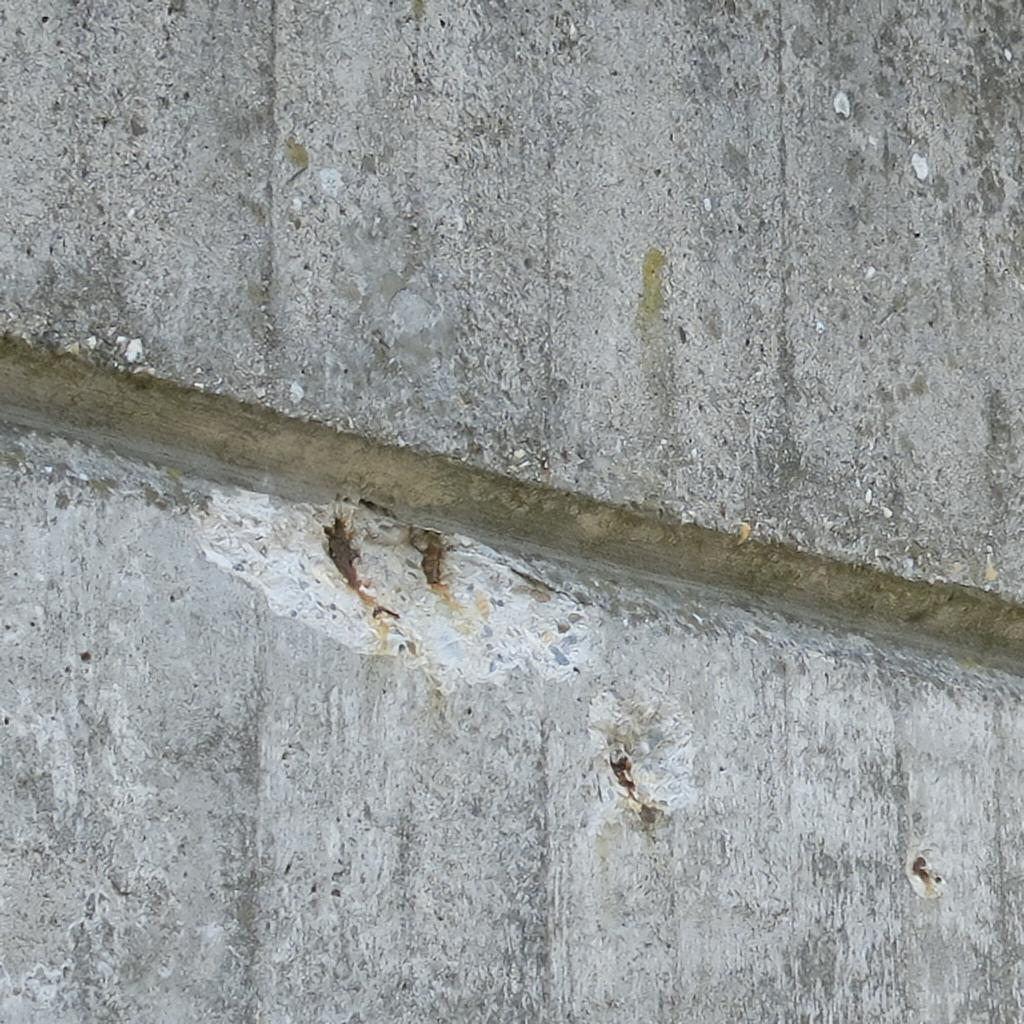exposed_rebar: (324, 518, 362, 590), (410, 528, 444, 586)
spalling: (192, 488, 592, 692), (590, 692, 696, 822), (906, 854, 942, 898)
